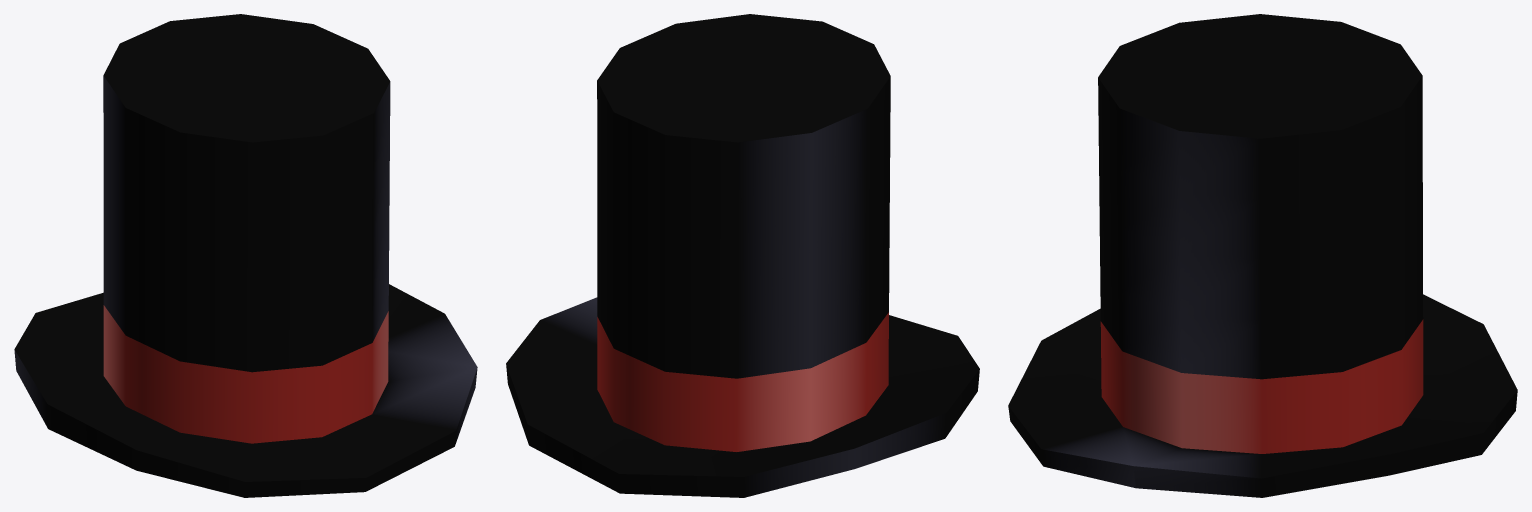
The model's file is human-clothing-top-hat_v1.glb.
3 views of the same model, side by side, from view 1: azimuth 30°, elevation 25°; view 2: azimuth 150°, elevation 25°; view 3: azimuth 270°, elevation 25° (orthographic). The views are drawn at different scales.
Visible parts, largest first — view 1: Top Hat; view 2: Top Hat; view 3: Top Hat.
Part boxes in pixels (x1,y1,x2,y2): Top Hat: [14, 14, 477, 497]; Top Hat: [506, 14, 979, 497]; Top Hat: [1008, 14, 1517, 497].
Bounding box in the file's own units: 0.285 × 0.2246 × 0.3.
